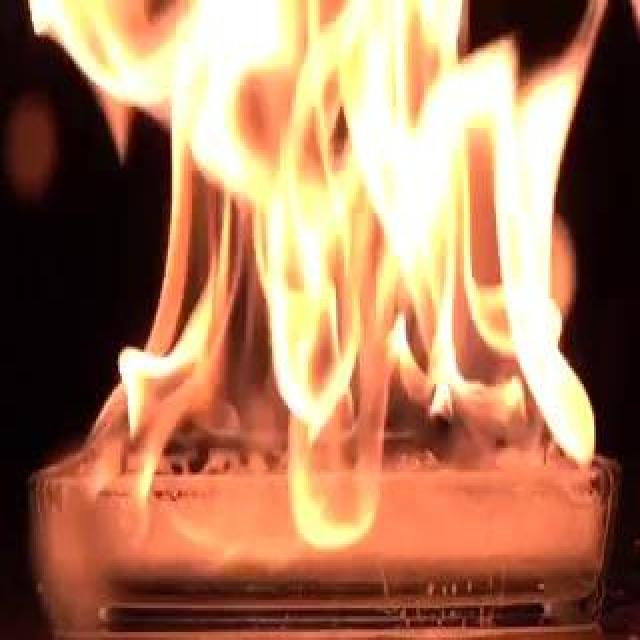Fire: (52, 3, 592, 549)
